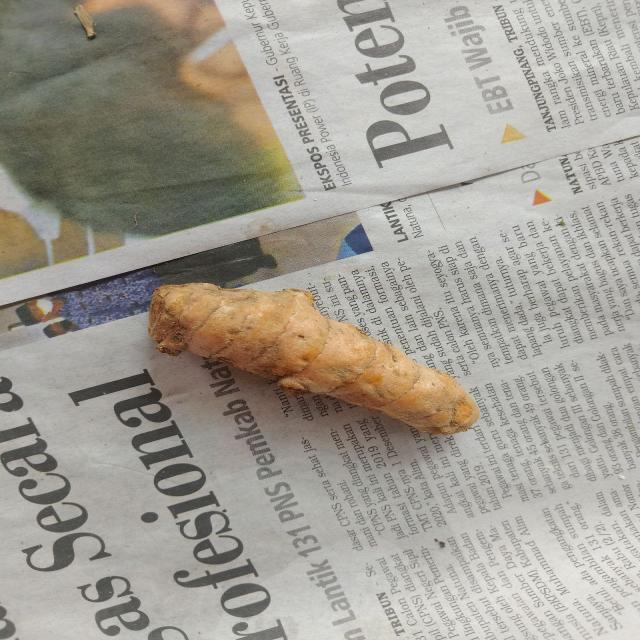ginger: (152, 272, 466, 430)
